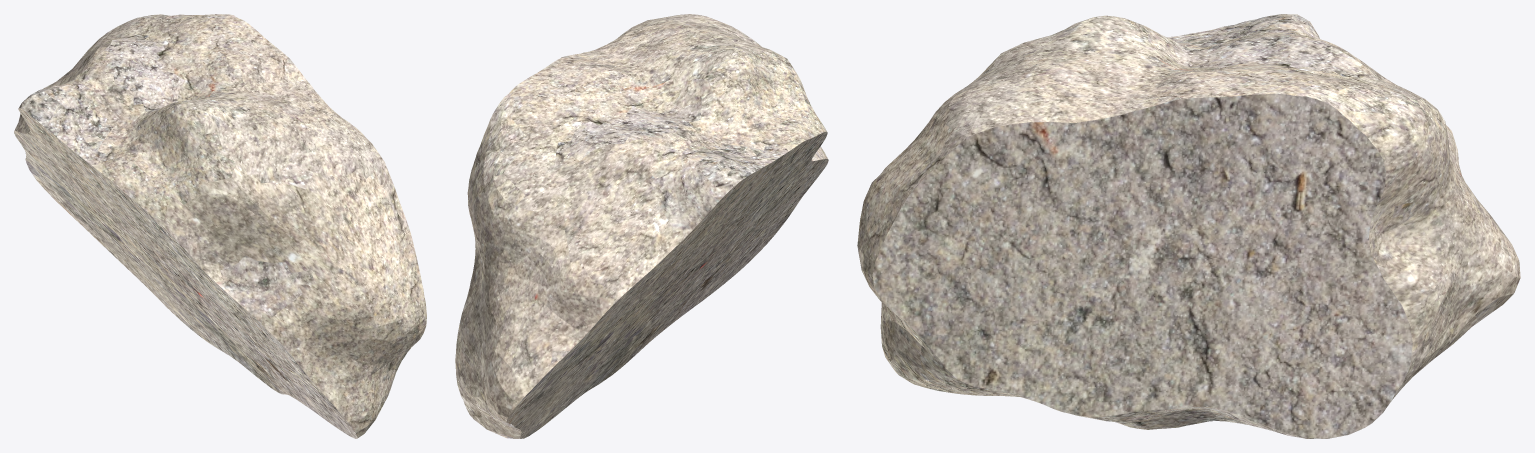
Rendered from quoterock.glb.
3 views of the same model, side by side, from view 1: azimuth 30°, elevation 25°; view 2: azimuth 150°, elevation 25°; view 3: azimuth 270°, elevation 25° (orthographic). The views are drawn at different scales.
Visible parts, largest first — view 1: Rock; view 2: Rock; view 3: Rock.
Part boxes in pixels (x1,y1,x2,y2): Rock: (14, 14, 426, 438); Rock: (455, 14, 828, 438); Rock: (857, 14, 1520, 438).
Size of the model in its own units: 5.92 by 8.33 by 13.82.
1 material, 1 textured.
